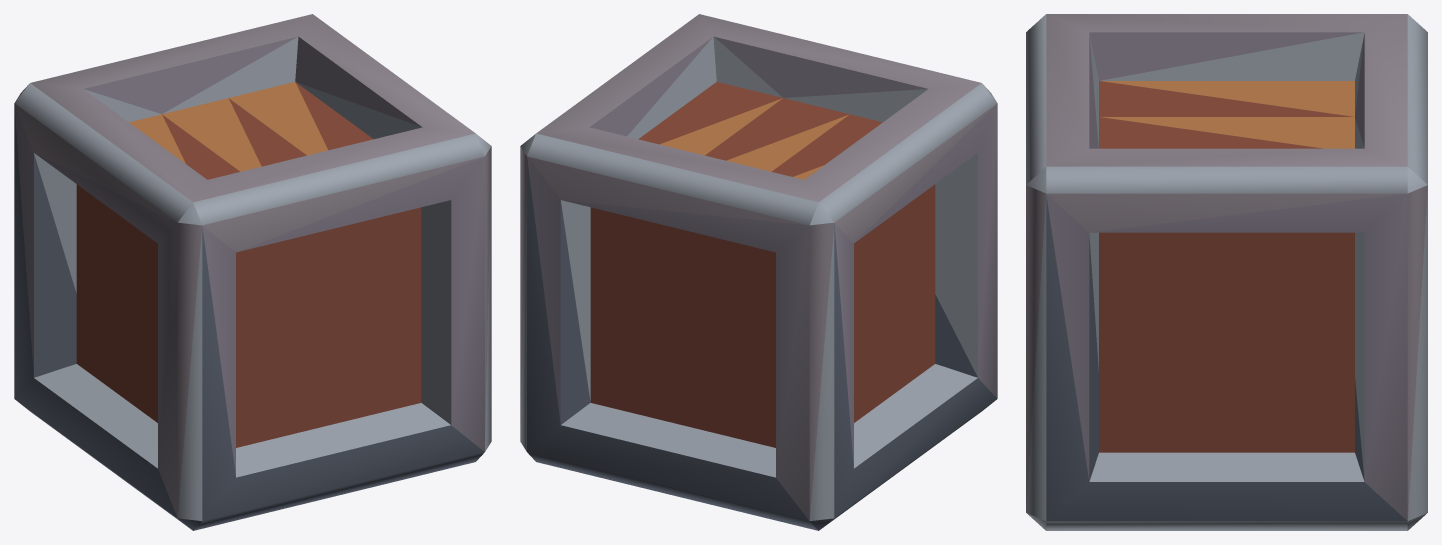
3 renders of one model, left to right at view 1: azimuth 30°, elevation 25°; view 2: azimuth 150°, elevation 25°; view 3: azimuth 270°, elevation 25°, orthographic. The views are drawn at different scales.
Parts seen in each view (by area): view 1: model; view 2: model; view 3: model.
Part boxes in pixels (box(x1,y1,x2,y2)): model: box(14, 14, 491, 530); model: box(520, 14, 997, 530); model: box(1026, 14, 1427, 530).
Size of the model in its own units: 1.05 by 1.05 by 1.05.
